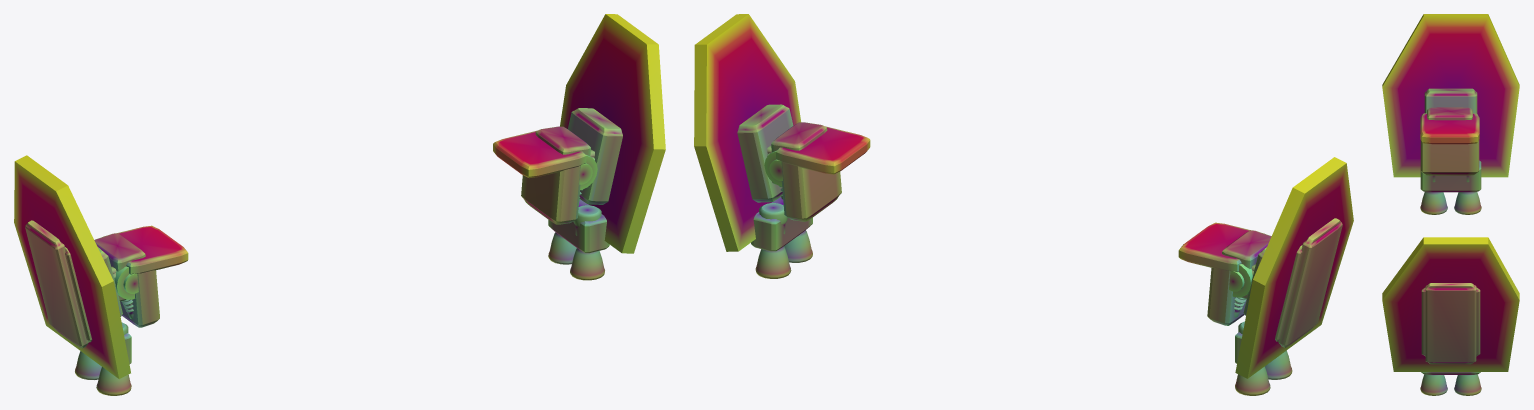
The model's file is llm_gen_shoulder_pods_015_ea522d.glb.
3 views of the same model, side by side, from view 1: azimuth 30°, elevation 25°; view 2: azimuth 150°, elevation 25°; view 3: azimuth 270°, elevation 25° (orthographic). The views are drawn at different scales.
Parts seen in each view (by area): view 1: binder_shield_wing_2_adapter_dark_r, binder_shield_wing_2_adapter_dark_l, adapter_shoulder_yoke_r, adapter_shoulder_yoke_l, binder_trim_blue_4_cobalt_anodized_l, adapter_sub_wing_clevis_dark_1_adapter_dark_r, adapter_sub_exhaust_pod_dark_5_adapter_dark_r, adapter_sh_top_collar_dark_8_adapter_dark_l, adapter_sh_top_collar_dark_8_adapter_dark_r, binder_vernier_b_7_vernier_bell_vernier_r, binder_vernier_b_7_vernier_bell_vernier_l, binder_vernier_a_6_vernier_bell_vernier_r (+1 smaller); view 2: binder_shield_wing_2_adapter_dark_r, binder_shield_wing_2_adapter_dark_l, adapter_shoulder_yoke_r, binder_trim_blue_4_cobalt_anodized_l, adapter_shoulder_yoke_l, adapter_sub_wing_clevis_dark_1_adapter_dark_r, adapter_sub_exhaust_pod_dark_5_adapter_dark_r, adapter_sh_top_collar_dark_8_adapter_dark_l, adapter_sh_top_collar_dark_8_adapter_dark_r, binder_vernier_a_6_vernier_bell_vernier_r, binder_vernier_a_6_vernier_bell_vernier_l, binder_vernier_b_7_vernier_bell_vernier_r (+1 smaller); view 3: binder_shield_wing_2_adapter_dark_l, binder_shield_wing_2_adapter_dark_r, binder_trim_blue_4_cobalt_anodized_r, adapter_shoulder_yoke_l, adapter_sub_exhaust_pod_dark_5_adapter_dark_l, adapter_sub_wing_clevis_dark_1_adapter_dark_l, adapter_sub_trim_clamp_dark_3_adapter_dark_r, adapter_sh_top_collar_dark_8_adapter_dark_l, binder_vernier_a_6_vernier_bell_vernier_l, binder_vernier_b_7_vernier_bell_vernier_l, binder_vernier_a_6_vernier_bell_vernier_r, binder_vernier_b_7_vernier_bell_vernier_r (+1 smaller).
Part boxes in pixels (bbox=[...]): binder_shield_wing_2_adapter_dark_r: bbox=[560, 14, 665, 253]; binder_shield_wing_2_adapter_dark_l: bbox=[14, 155, 130, 378]; adapter_shoulder_yoke_r: bbox=[493, 130, 597, 224]; adapter_shoulder_yoke_l: bbox=[103, 225, 188, 327]; binder_trim_blue_4_cobalt_anodized_l: bbox=[25, 220, 88, 348]; adapter_sub_wing_clevis_dark_1_adapter_dark_r: bbox=[568, 108, 622, 204]; adapter_sub_exhaust_pod_dark_5_adapter_dark_r: bbox=[548, 199, 609, 253]; adapter_sh_top_collar_dark_8_adapter_dark_l: bbox=[94, 233, 145, 271]; adapter_sh_top_collar_dark_8_adapter_dark_r: bbox=[535, 126, 590, 155]; binder_vernier_b_7_vernier_bell_vernier_r: bbox=[570, 248, 604, 280]; binder_vernier_b_7_vernier_bell_vernier_l: bbox=[96, 367, 131, 395]; binder_vernier_a_6_vernier_bell_vernier_r: bbox=[548, 232, 576, 264]; binder_shield_wing_2_adapter_dark_r: bbox=[694, 14, 800, 251]; binder_shield_wing_2_adapter_dark_l: bbox=[1235, 157, 1353, 378]; adapter_shoulder_yoke_r: bbox=[764, 126, 870, 221]; binder_trim_blue_4_cobalt_anodized_l: bbox=[1278, 218, 1342, 347]; adapter_shoulder_yoke_l: bbox=[1178, 222, 1264, 325]; adapter_sub_wing_clevis_dark_1_adapter_dark_r: bbox=[737, 104, 793, 202]; adapter_sub_exhaust_pod_dark_5_adapter_dark_r: bbox=[751, 197, 812, 251]; adapter_sh_top_collar_dark_8_adapter_dark_l: bbox=[1222, 230, 1271, 268]; adapter_sh_top_collar_dark_8_adapter_dark_r: bbox=[771, 122, 827, 152]; binder_vernier_a_6_vernier_bell_vernier_r: bbox=[755, 246, 791, 278]; binder_vernier_a_6_vernier_bell_vernier_l: bbox=[1235, 366, 1270, 395]; binder_vernier_b_7_vernier_bell_vernier_r: bbox=[784, 230, 812, 262]; binder_shield_wing_2_adapter_dark_l: bbox=[1382, 14, 1519, 177]; binder_shield_wing_2_adapter_dark_r: bbox=[1382, 237, 1519, 371]; binder_trim_blue_4_cobalt_anodized_r: bbox=[1425, 283, 1476, 364]; adapter_shoulder_yoke_l: bbox=[1420, 113, 1479, 175]; adapter_sub_exhaust_pod_dark_5_adapter_dark_l: bbox=[1420, 160, 1481, 192]; adapter_sub_wing_clevis_dark_1_adapter_dark_l: bbox=[1424, 88, 1477, 113]; adapter_sub_trim_clamp_dark_3_adapter_dark_r: bbox=[1421, 287, 1480, 356]; adapter_sh_top_collar_dark_8_adapter_dark_l: bbox=[1427, 107, 1472, 120]; binder_vernier_a_6_vernier_bell_vernier_l: bbox=[1454, 192, 1481, 214]; binder_vernier_b_7_vernier_bell_vernier_l: bbox=[1420, 192, 1447, 214]; binder_vernier_a_6_vernier_bell_vernier_r: bbox=[1454, 374, 1481, 395]; binder_vernier_b_7_vernier_bell_vernier_r: bbox=[1420, 374, 1447, 395].
Bounding box in the file's own units: 119 × 41.83 × 30.08.
